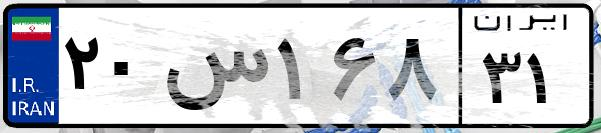0: (110, 28, 158, 98)
1: (270, 28, 330, 110), (525, 38, 570, 115)
2: (57, 26, 110, 100)
3: (475, 38, 525, 113)
6: (330, 28, 385, 110)
8: (385, 28, 445, 110)
س: (158, 20, 270, 120)
